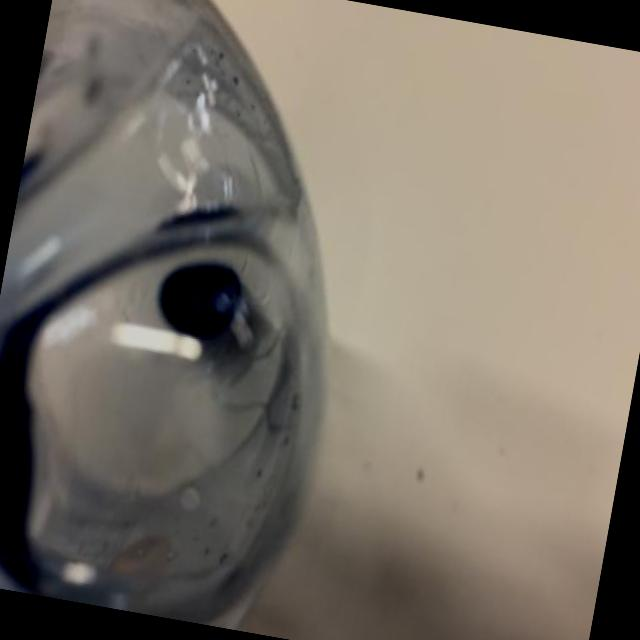Recycle: (0, 0, 392, 638)
